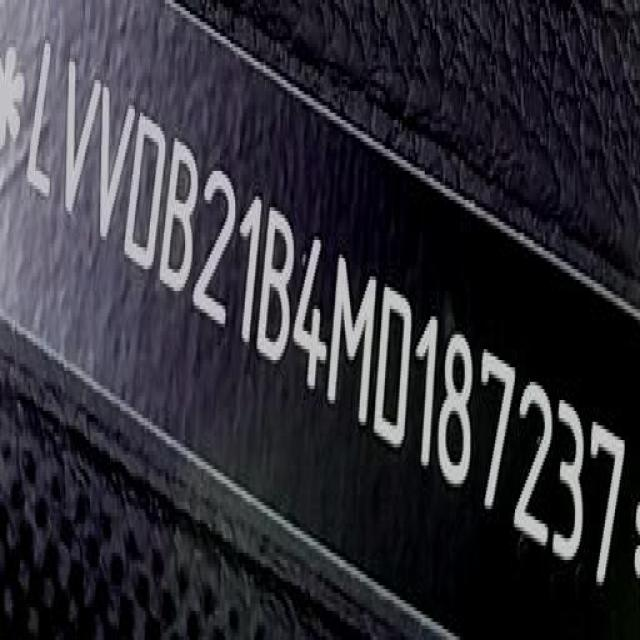1: (234, 183, 262, 360), (413, 306, 439, 482)
2: (513, 378, 558, 558), (195, 159, 241, 334)
3: (554, 390, 590, 571)
4: (294, 224, 336, 404)
7: (592, 412, 632, 592), (480, 338, 516, 529)
8: (438, 316, 478, 498)
B: (256, 197, 298, 370), (160, 130, 201, 301)
D: (126, 105, 169, 282), (376, 276, 416, 461)
L: (22, 38, 68, 210)
M: (331, 252, 381, 436)
V: (93, 79, 138, 256), (58, 56, 103, 231)
